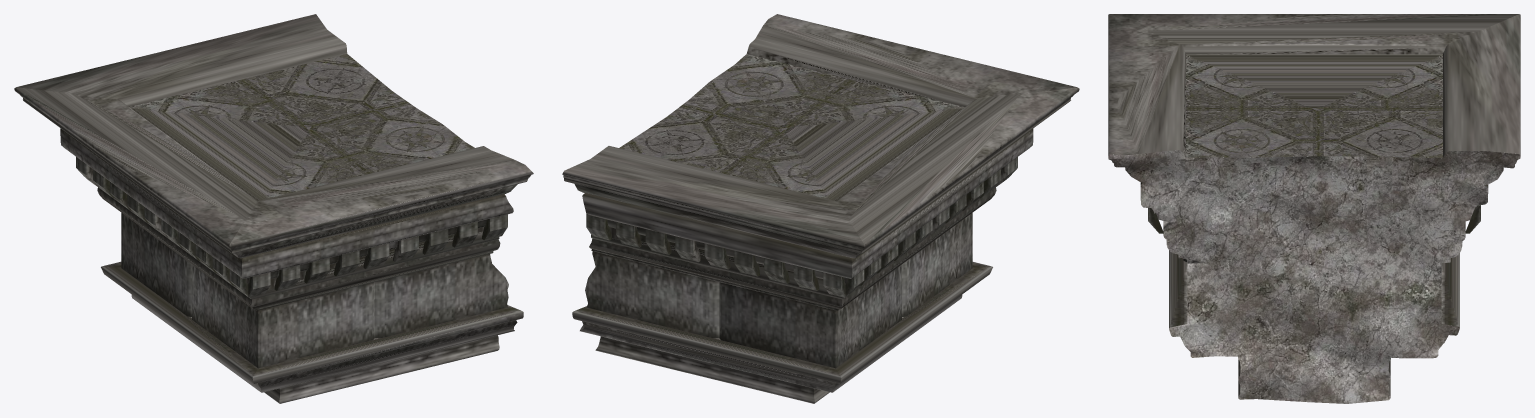
Rendered from eso_ss4_ruins5-transformed.glb.
3 views of the same model, side by side, from view 1: azimuth 30°, elevation 25°; view 2: azimuth 150°, elevation 25°; view 3: azimuth 270°, elevation 25° (orthographic). The views are drawn at different scales.
Parts seen in each view (by area): view 1: default; view 2: default; view 3: default.
Boxes of the visible parts, <box> form: default: <box>14,14,533,403</box>; default: <box>562,14,1079,403</box>; default: <box>1108,14,1520,403</box>.
Bounding box in the file's own units: 6.11 × 4.02 × 6.58.
Materials: 3 (3 with a texture image).
